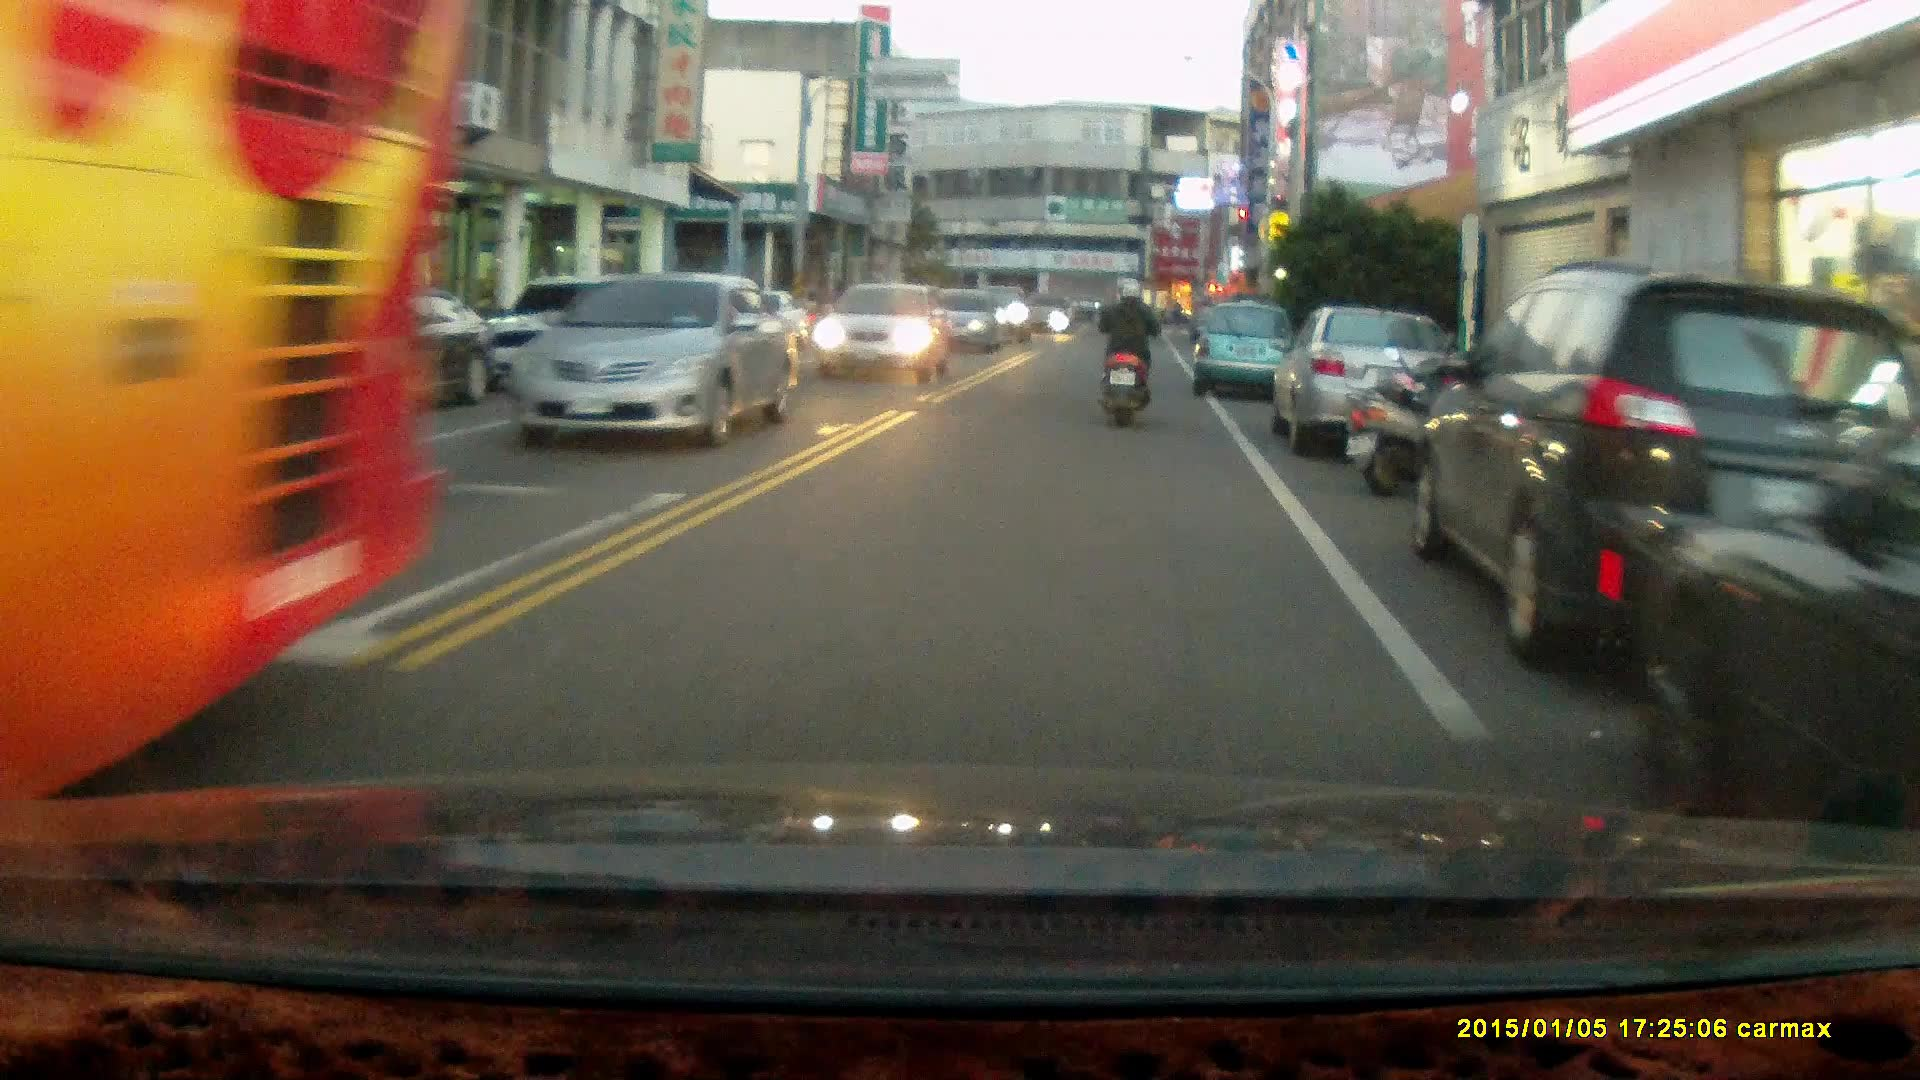rider: (1090, 273, 1155, 428)
vehicle: (1, 9, 468, 812), (1414, 259, 1920, 667), (1639, 416, 1920, 874), (506, 269, 798, 454), (257, 288, 501, 418), (1278, 304, 1455, 463), (815, 284, 952, 383), (1193, 297, 1301, 399), (920, 286, 1005, 359)
